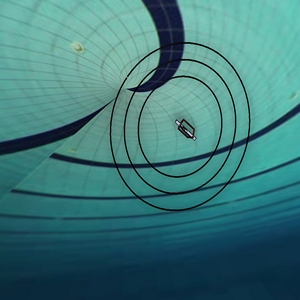circle: (100, 36, 256, 222)
submarine: (169, 111, 202, 149)
